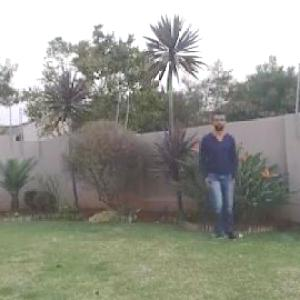follow: (201, 109, 240, 241)
